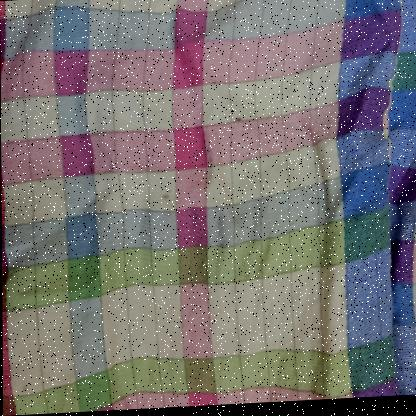spot: (231, 113, 249, 133), (157, 187, 175, 206), (205, 147, 213, 173), (299, 122, 308, 137), (20, 381, 29, 396), (210, 80, 219, 90), (244, 276, 251, 284)
